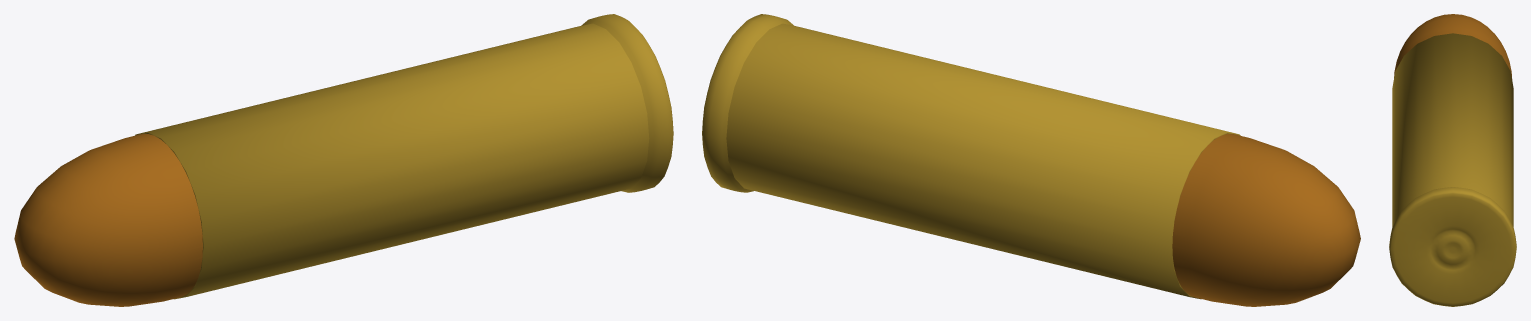
The model's file is Pistol_Bullet.fbx.
3 renders of one model, left to right at view 1: azimuth 30°, elevation 25°; view 2: azimuth 150°, elevation 25°; view 3: azimuth 270°, elevation 25°, orthographic. The views are drawn at different scales.
Parts seen in each view (by area): view 1: polySurface29; view 2: polySurface29; view 3: polySurface29.
Boxes of the visible parts, box(x1,y1,x2,y2) form: polySurface29: box(14, 14, 673, 306); polySurface29: box(702, 14, 1360, 306); polySurface29: box(1389, 14, 1516, 306).
Size of the model in its own units: 2.29 by 0.5885 by 0.5885.
